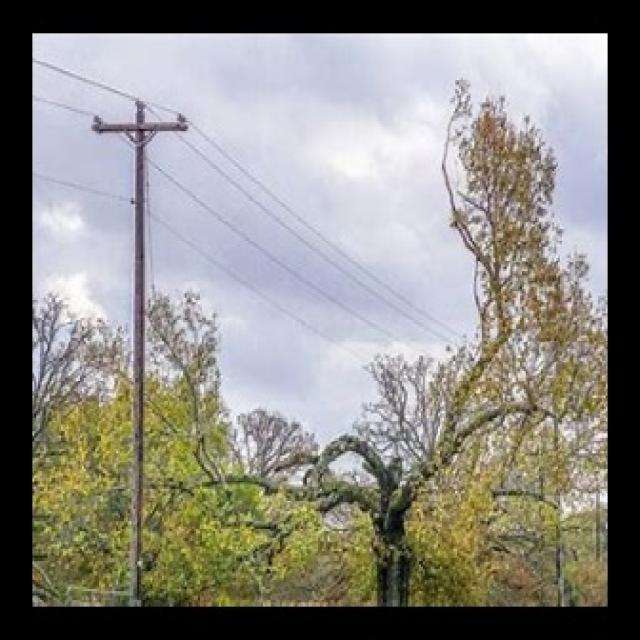utility poles: (88, 66, 194, 608)
